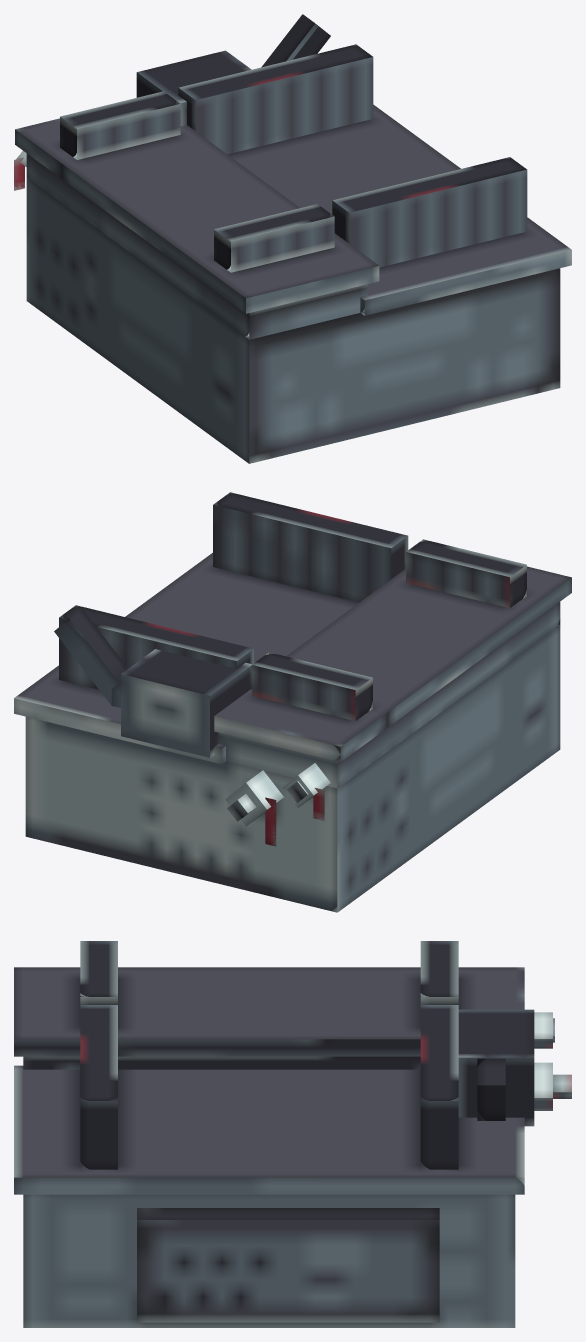
The model's file is vacuum_toilet_3.obj.
3 renders of one model, top to bottom at view 1: azimuth 30°, elevation 25°; view 2: azimuth 150°, elevation 25°; view 3: azimuth 270°, elevation 25°, orthographic. The views are drawn at different scales.
Visible parts, largest first — view 1: cube; view 2: cube; view 3: cube.
Boxes of the visible parts, <box> form: cube: <box>14,14,571,463</box>; cube: <box>14,492,571,912</box>; cube: <box>14,941,571,1327</box>.
Size of the model in its own units: 1.44 by 0.9031 by 1.84.
